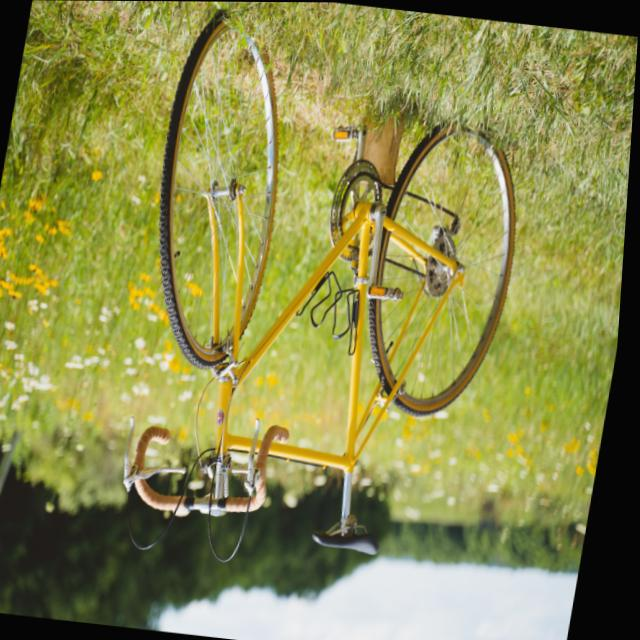road-bike: (95, 3, 558, 588)
